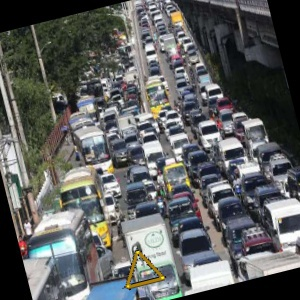triangle: (123, 247, 167, 290)
